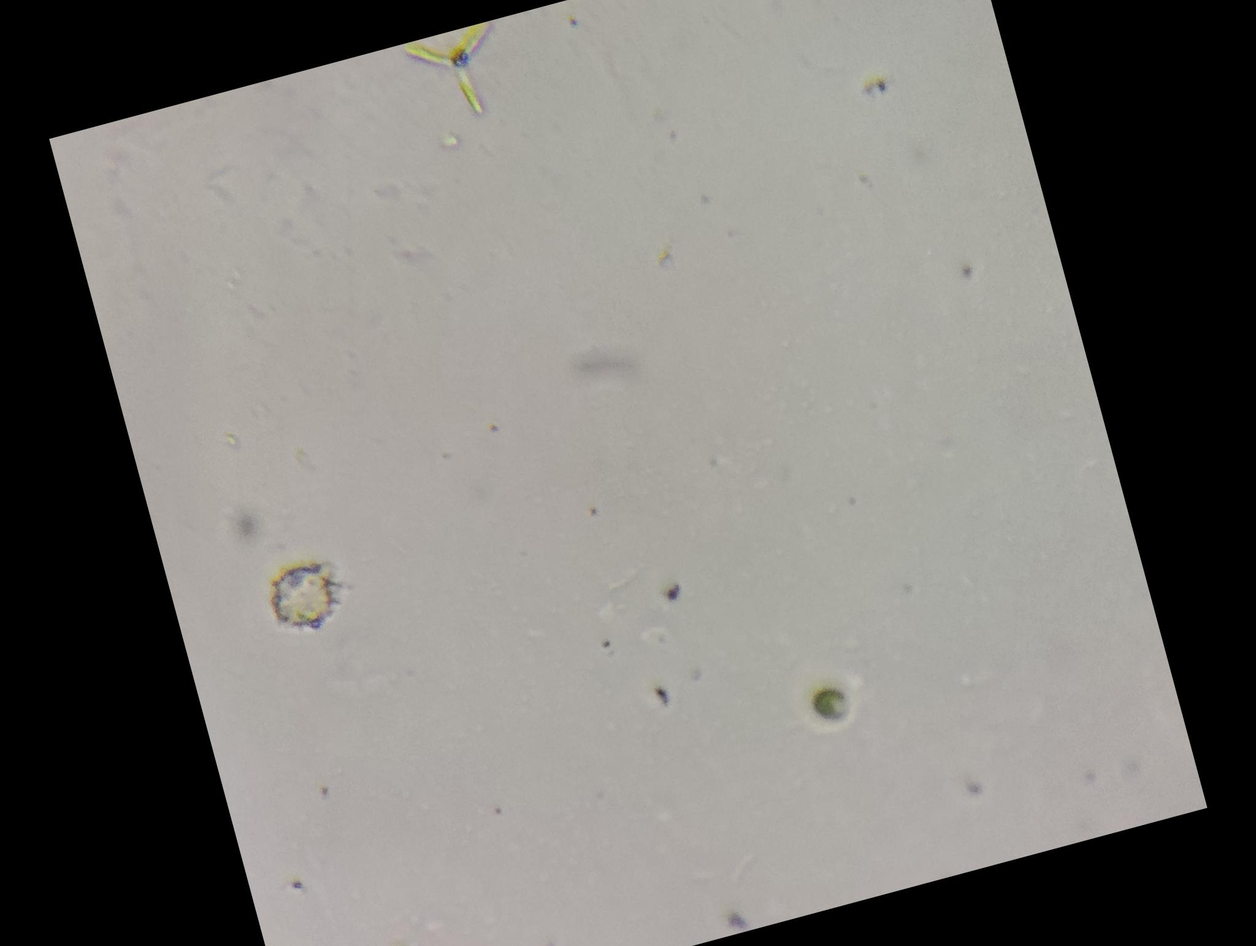Scenedesmus: (396, 17, 528, 137)
